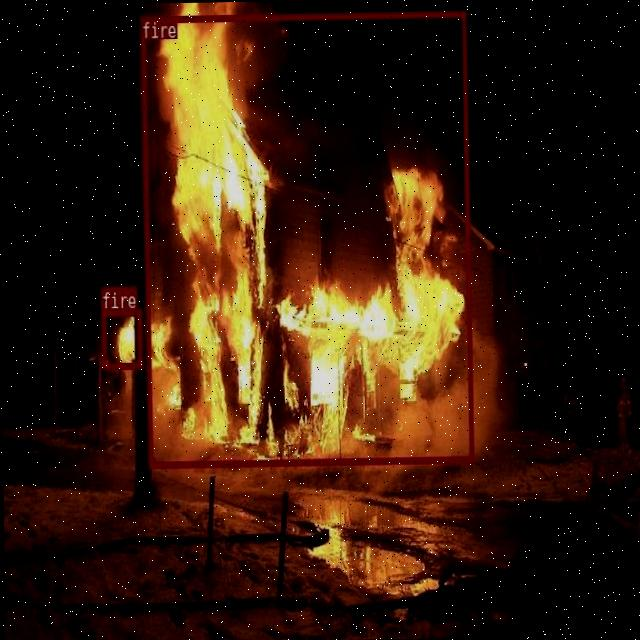fire: (140, 9, 473, 466), (101, 308, 142, 368)
